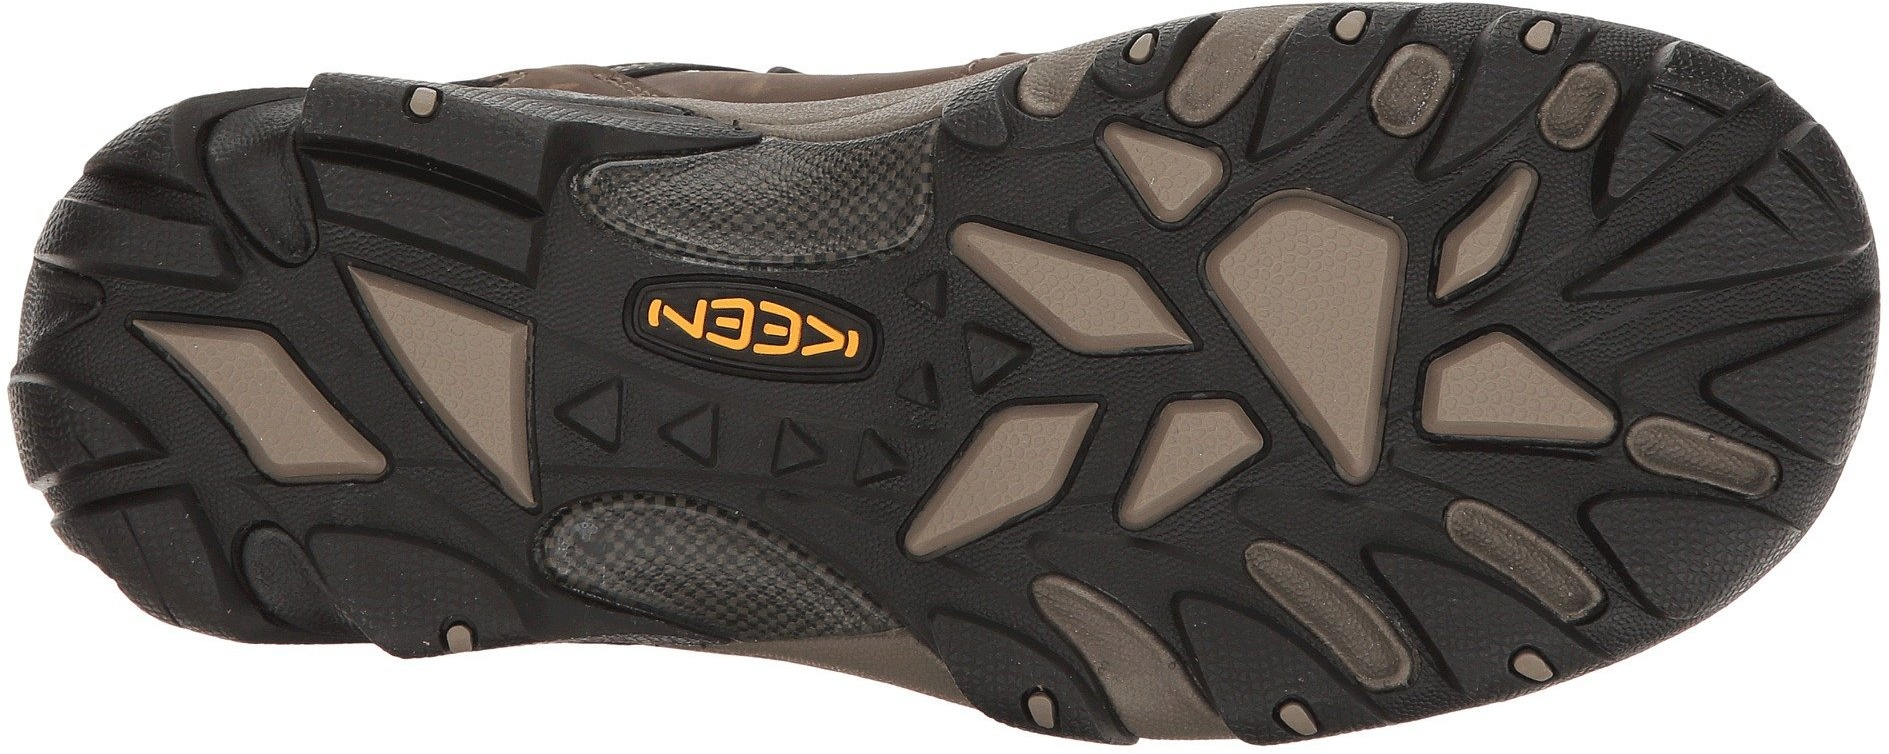text: (710, 273, 838, 385)
triangle: (572, 351, 714, 516), (777, 403, 908, 506), (932, 316, 1024, 397)
